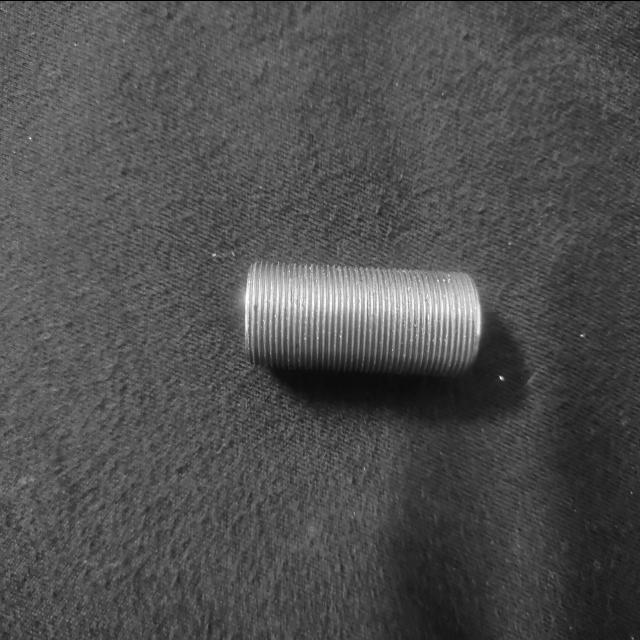Normal: (239, 258, 489, 376)
